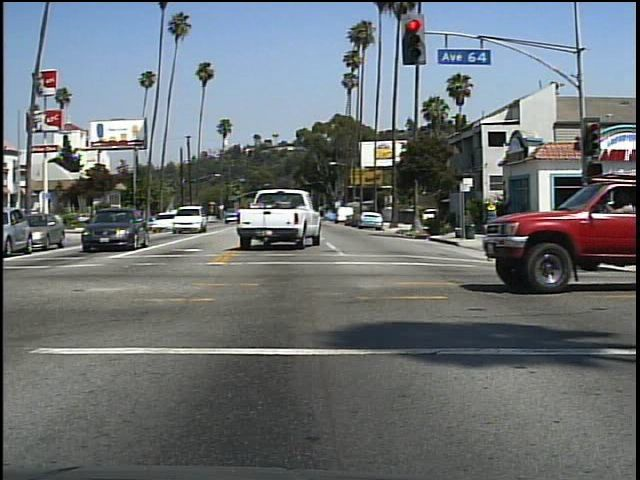person: (483, 200, 501, 230)
